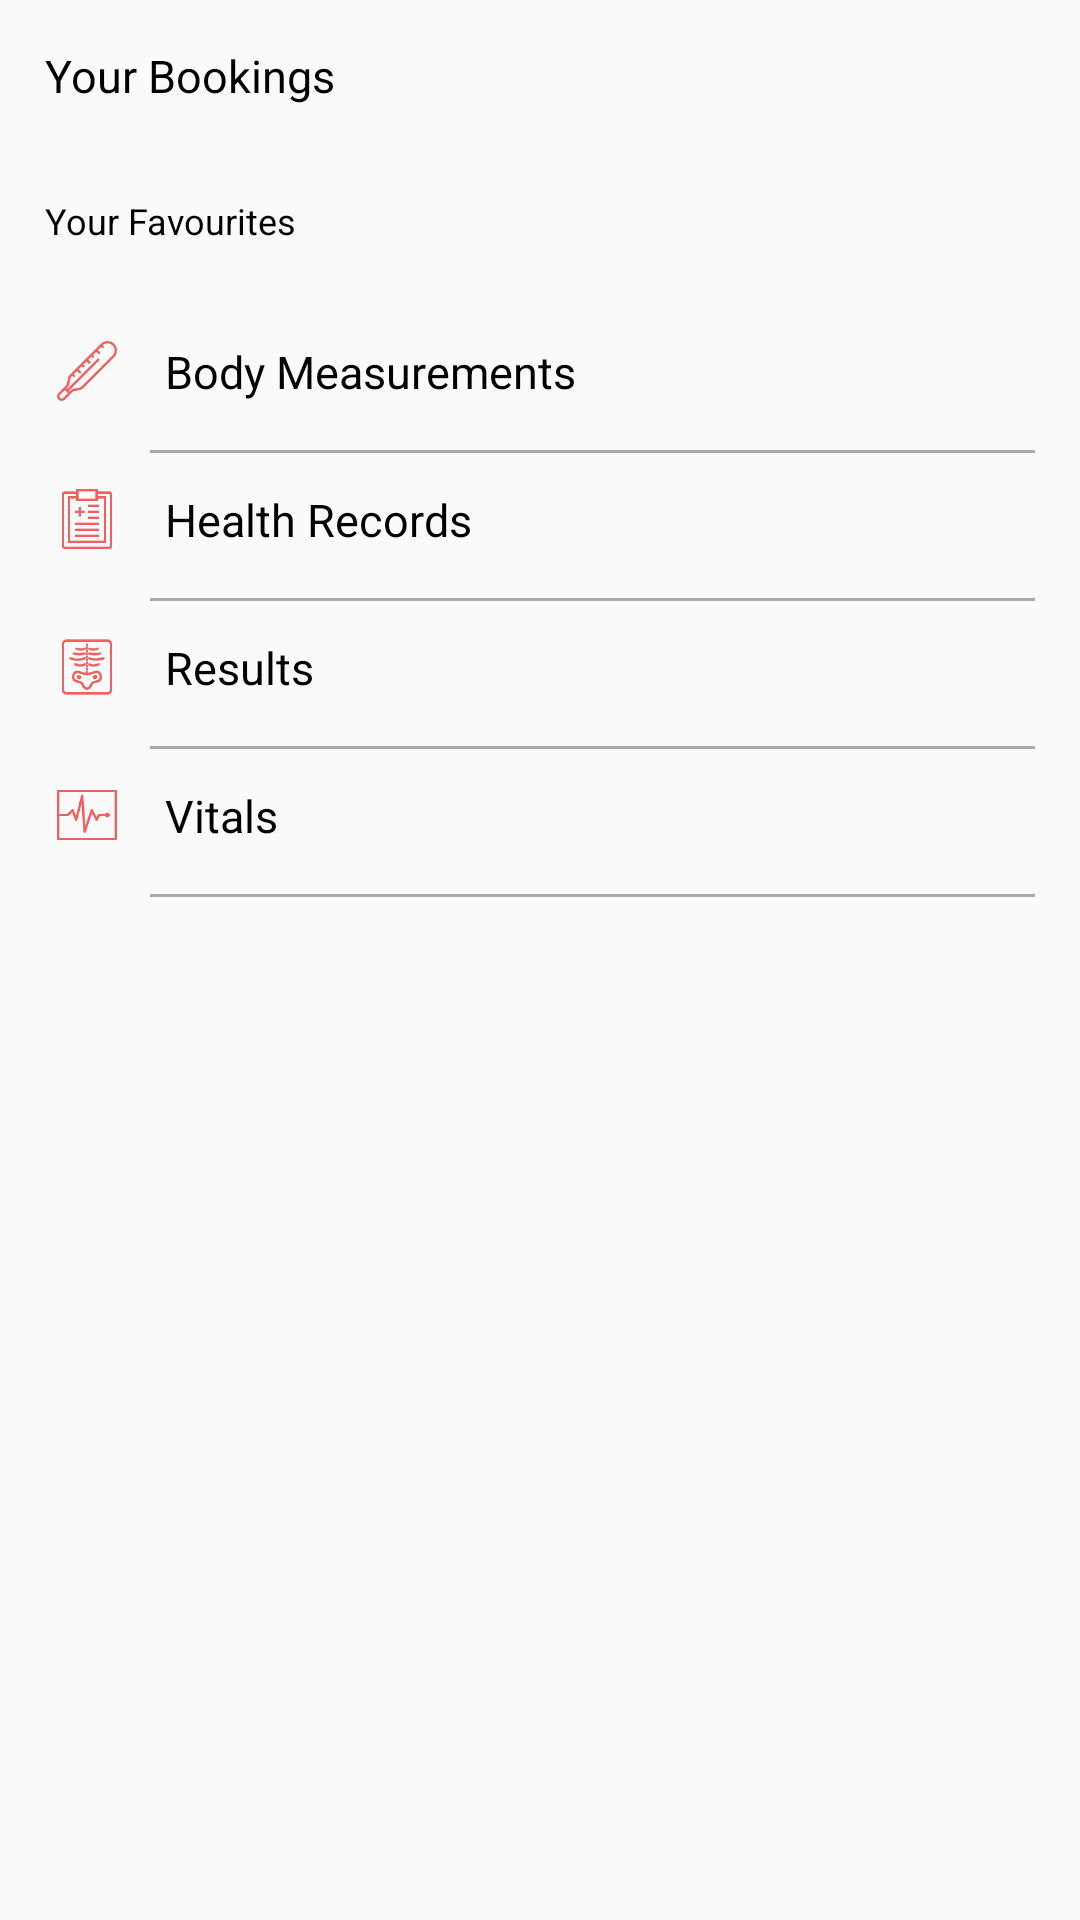

Icon bounding boxes for this 1080*1920 phone screenshot, format (x1, y1, x2, y2):
monitor: (57, 790, 117, 840)
